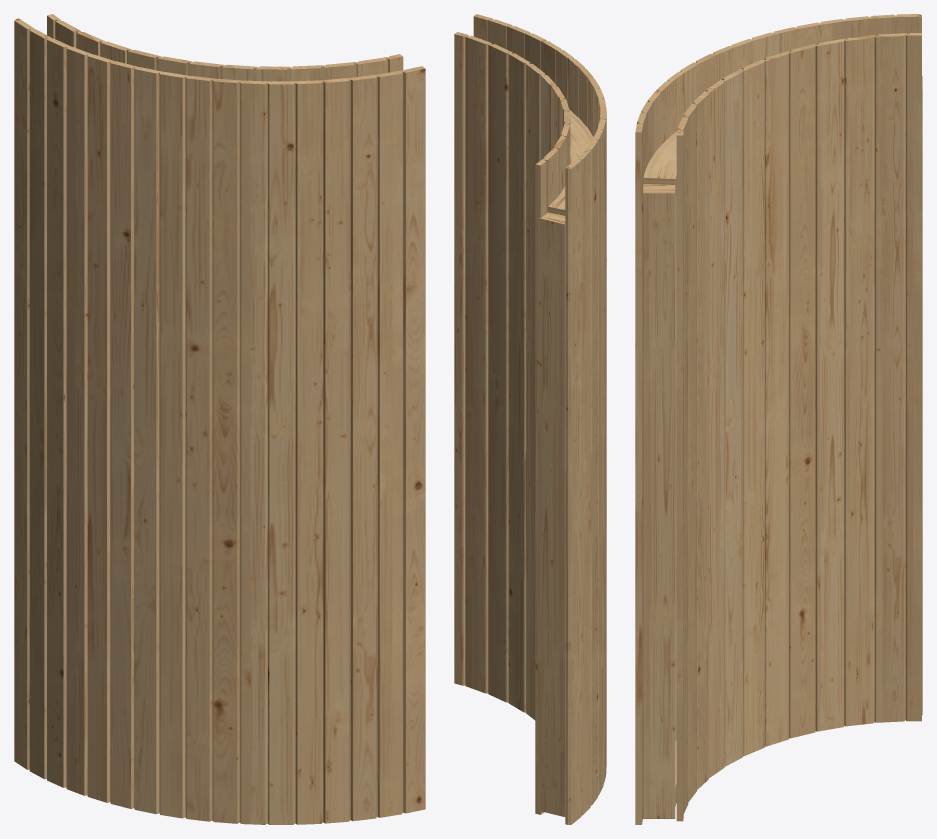
File: Roundy_Nurk_Puidust.glb
The picture shows the model from 3 angles, left to right: view 1: azimuth 30°, elevation 25°; view 2: azimuth 150°, elevation 25°; view 3: azimuth 270°, elevation 25°; orthographic projection. The views are drawn at different scales.
Parts seen in each view (by area): view 1: Rectangle838, Rectangle839; view 2: Rectangle839, Rectangle838, Box2131641177, Box2131641178; view 3: Rectangle839, Box2131641177 (×2), Rectangle838, Box2131641178.
Part boxes in pixels (x1,y1,x2,y2): Rectangle838: [14, 18, 425, 824]; Rectangle839: [47, 14, 403, 81]; Rectangle839: [454, 32, 570, 814]; Rectangle838: [473, 14, 606, 824]; Box2131641177: [538, 212, 565, 816]; Box2131641178: [548, 110, 593, 215]; Rectangle839: [676, 33, 921, 821]; Box2131641177 (×2): [643, 76, 922, 818]; Rectangle838: [635, 14, 921, 824]; Box2131641178: [643, 131, 677, 197].
Size of the model in its own units: 0.7873 by 2.12 by 0.7969.
1 material, 1 textured.
